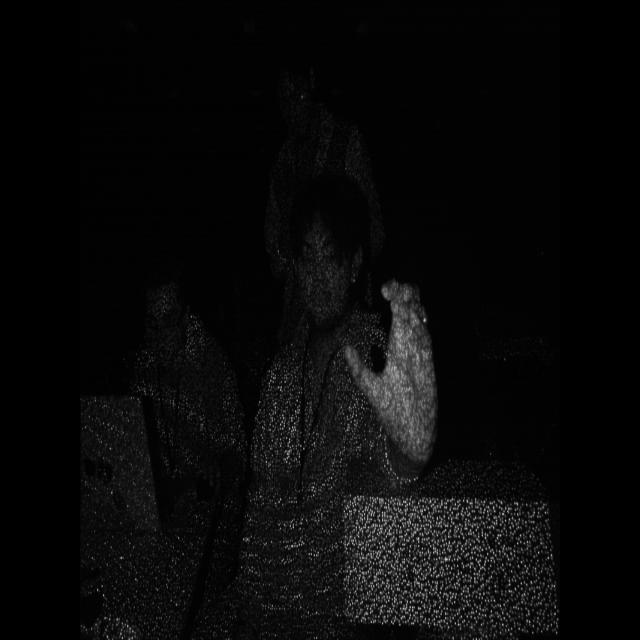C: (338, 267, 446, 478)
